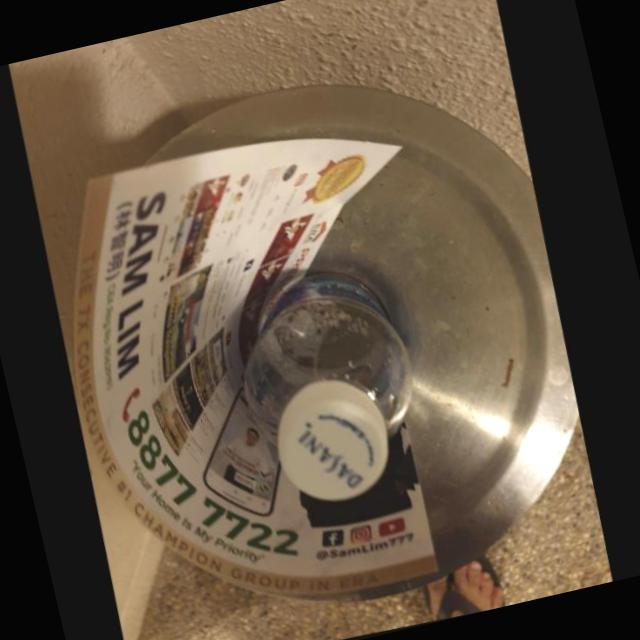chai_nhua_pet: (246, 274, 416, 503)
giay: (76, 140, 442, 601)
